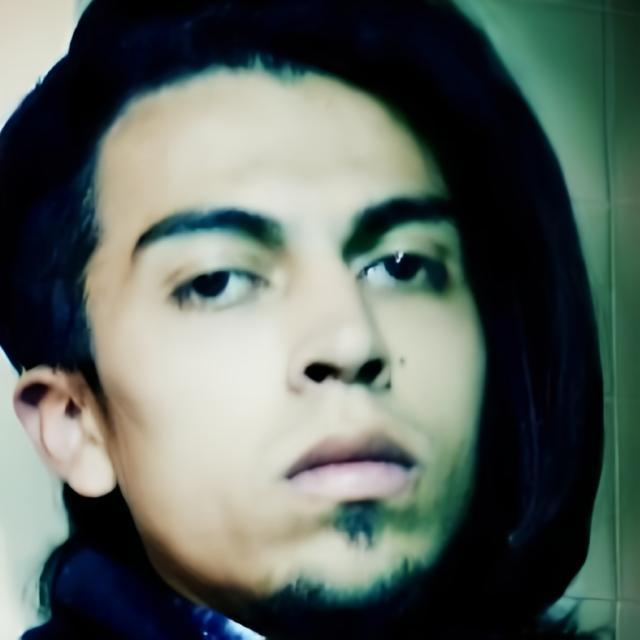anger: (101, 73, 490, 596)
